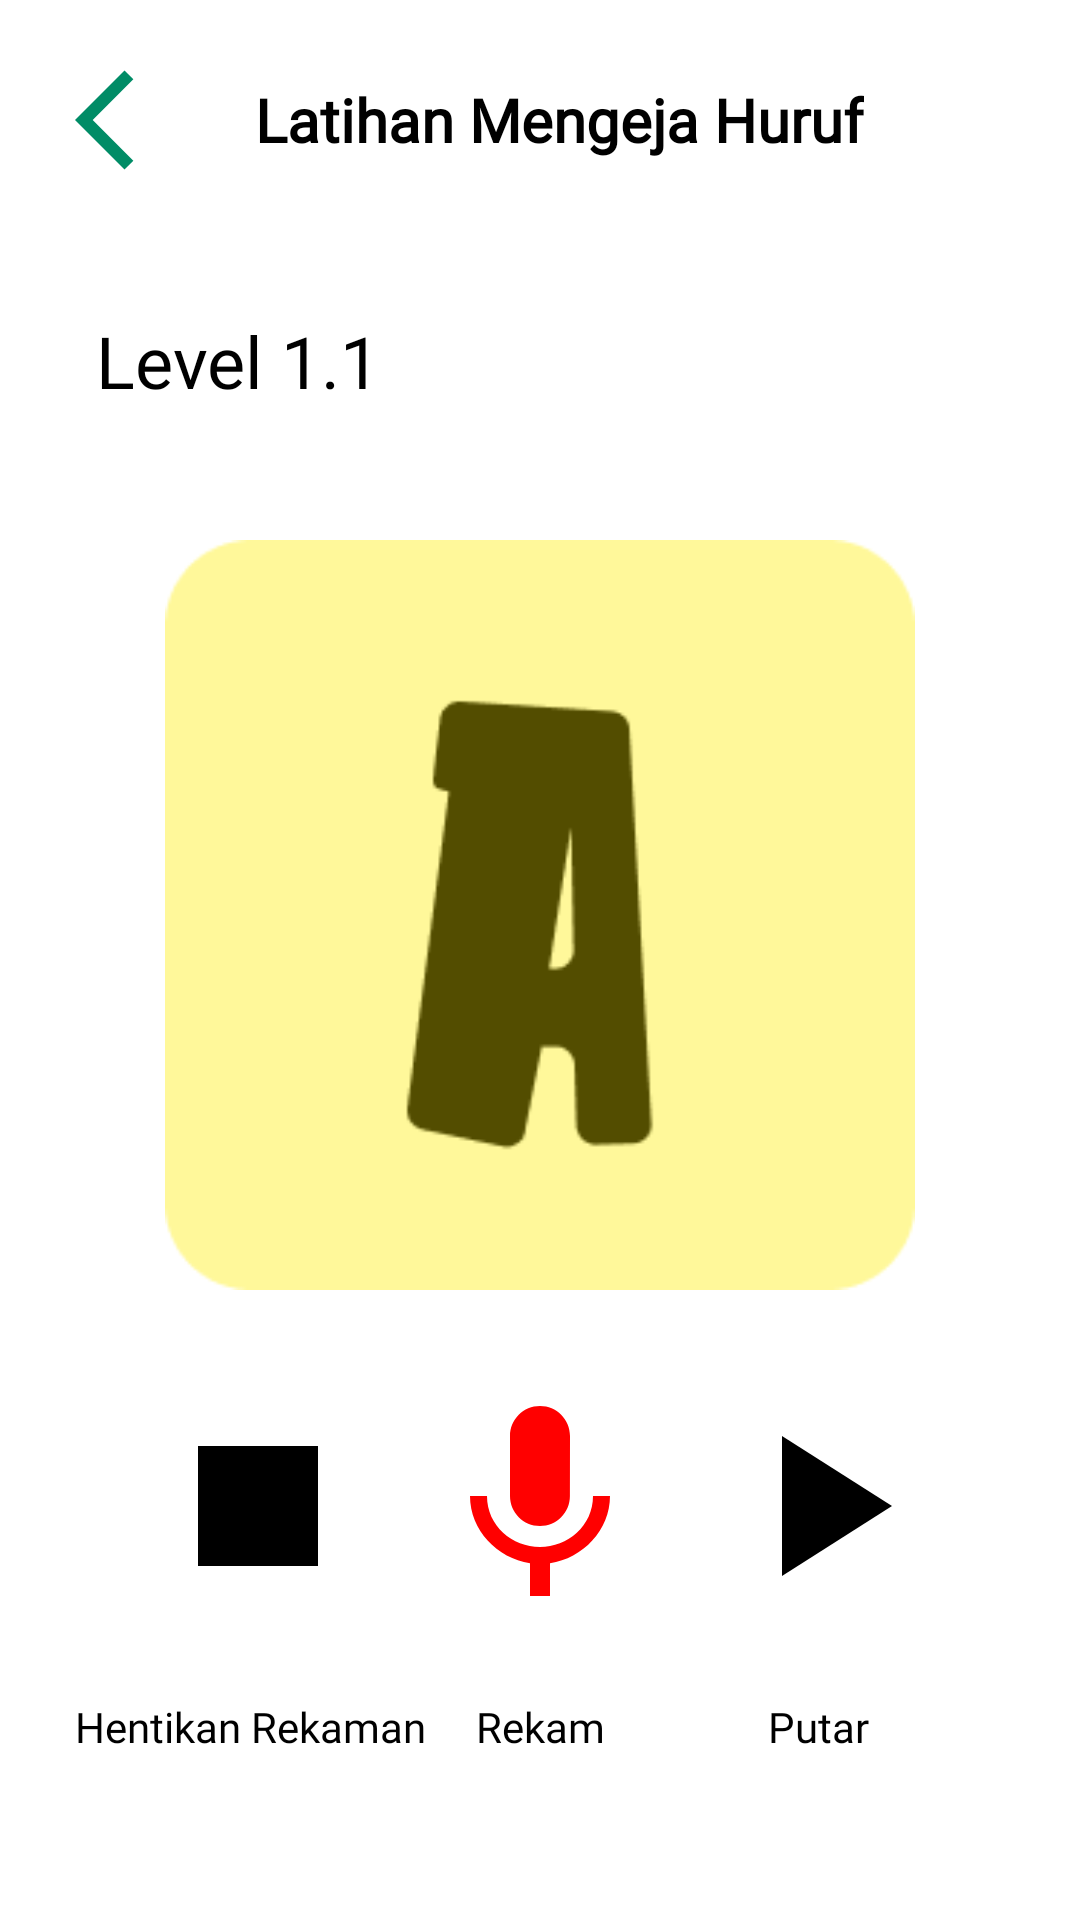

Icon bounding boxes for this 1080px x 1920px phone screenshot, format Rect(x1, y1, x2, y2):
arrow back: Rect(75, 70, 134, 170)
mic: Rect(470, 1406, 610, 1596)
play arrow: Rect(782, 1436, 892, 1576)
